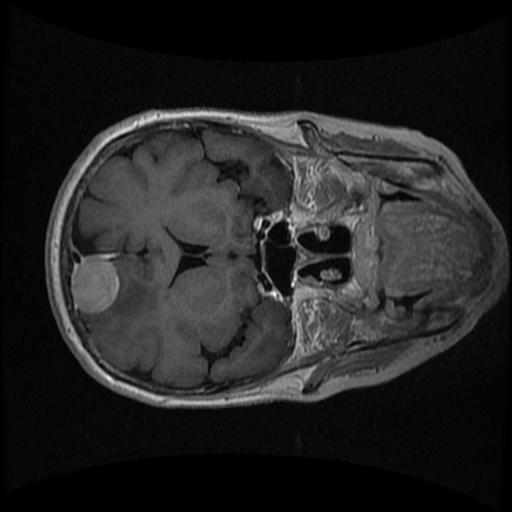meningioma: (69, 258, 116, 312)
